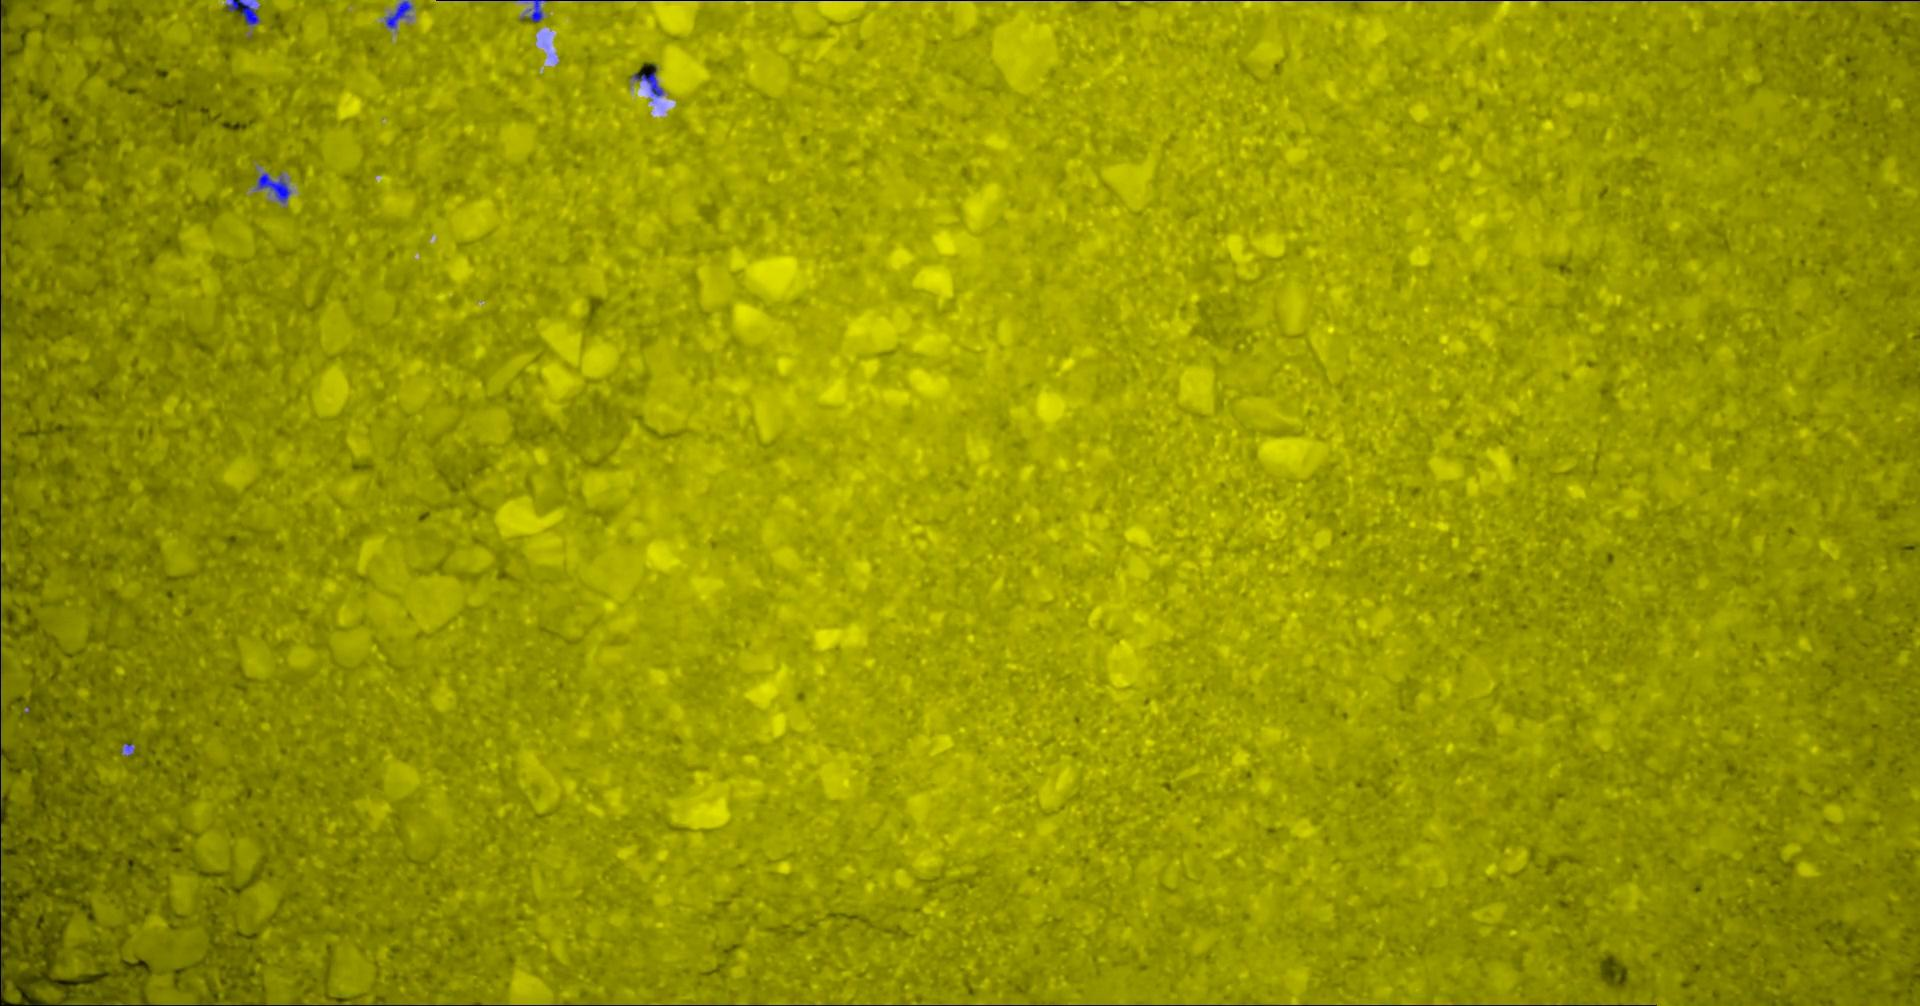ant: (257, 173, 290, 202), (225, 0, 259, 24), (385, 0, 411, 28), (632, 71, 662, 97), (516, 0, 545, 22)
